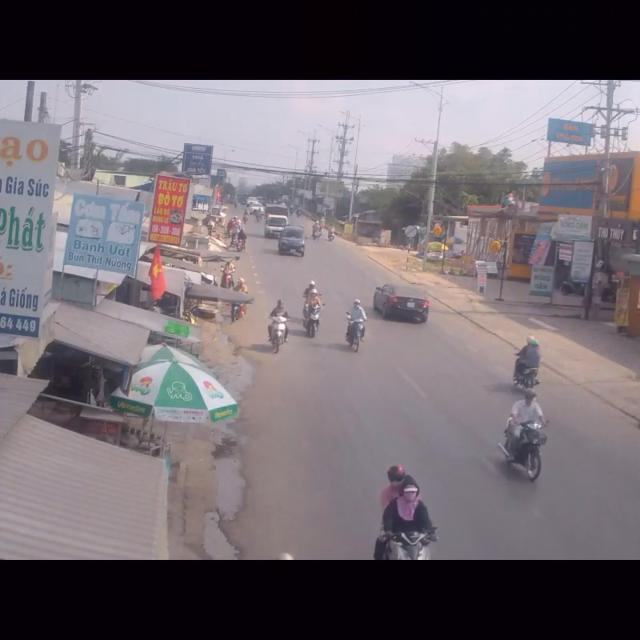car: (374, 280, 433, 328)
motorbike: (369, 467, 437, 562), (496, 394, 548, 486), (509, 333, 542, 396), (346, 298, 367, 356), (269, 297, 290, 353), (302, 281, 322, 339)
